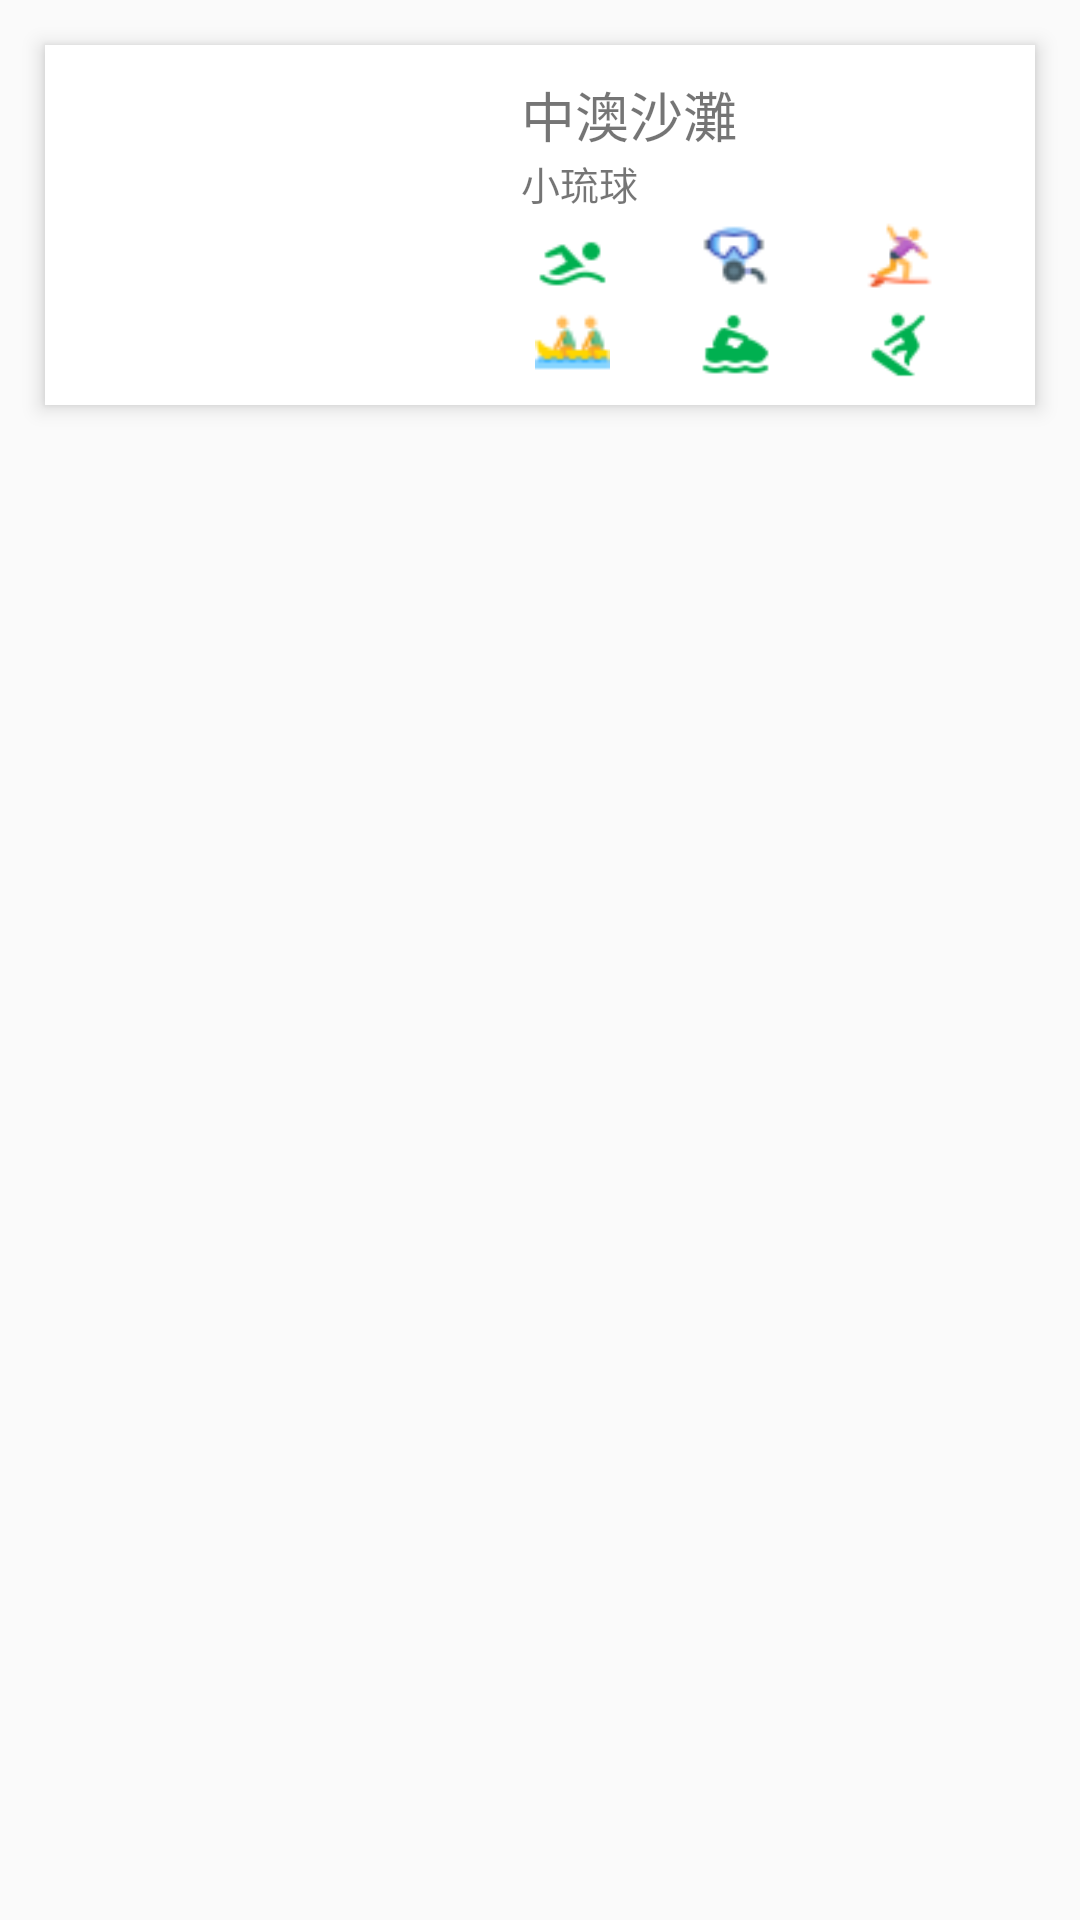

Icons on this 1080x1920 Android screen, each with the point to tap as [x,y]:
banana: [572,342]
diving: [735,255]
jetski: [735,344]
surfing: [899,256]
swim: [572,264]
